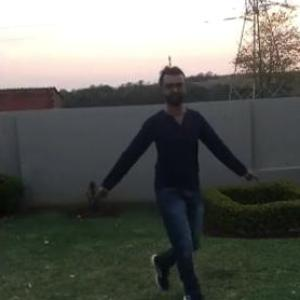land: (113, 79, 233, 255)
